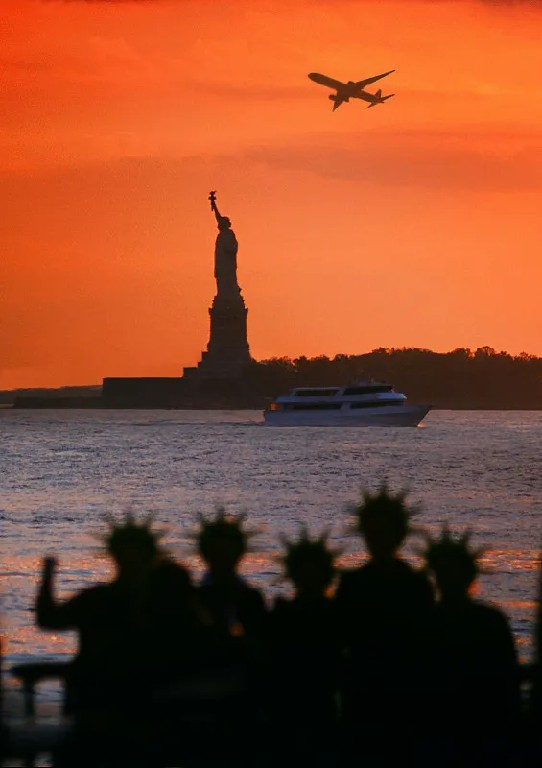SL: (198, 188, 258, 366)
